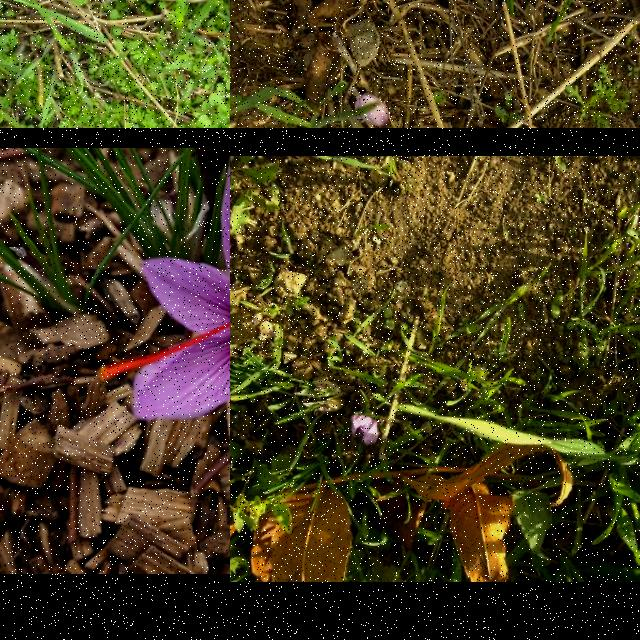flower: (97, 148, 230, 474), (353, 93, 390, 128), (351, 414, 379, 446)
